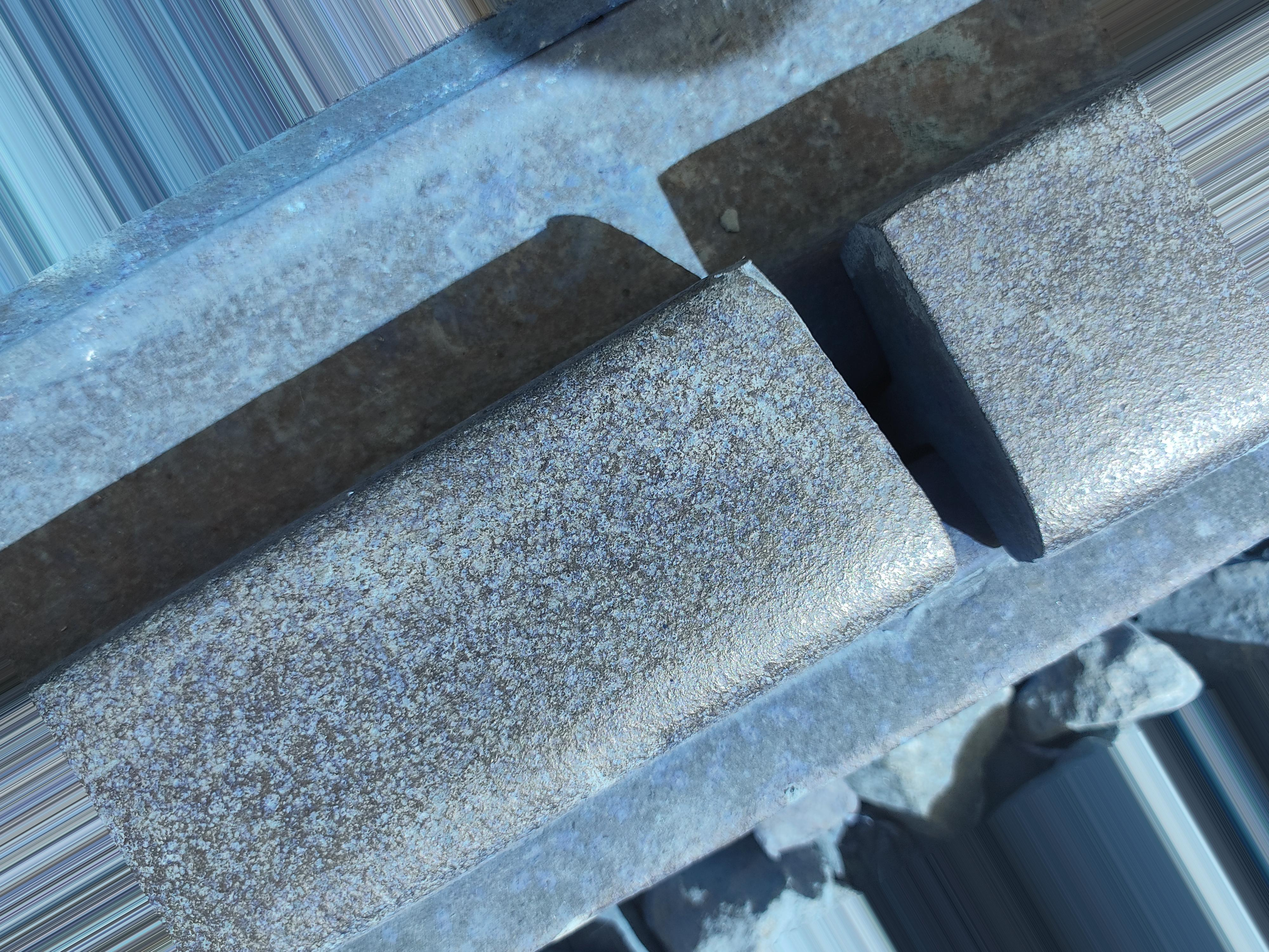railway-gap: (667, 176, 1143, 656)
